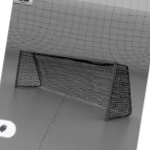goals: (14, 49, 134, 123)
